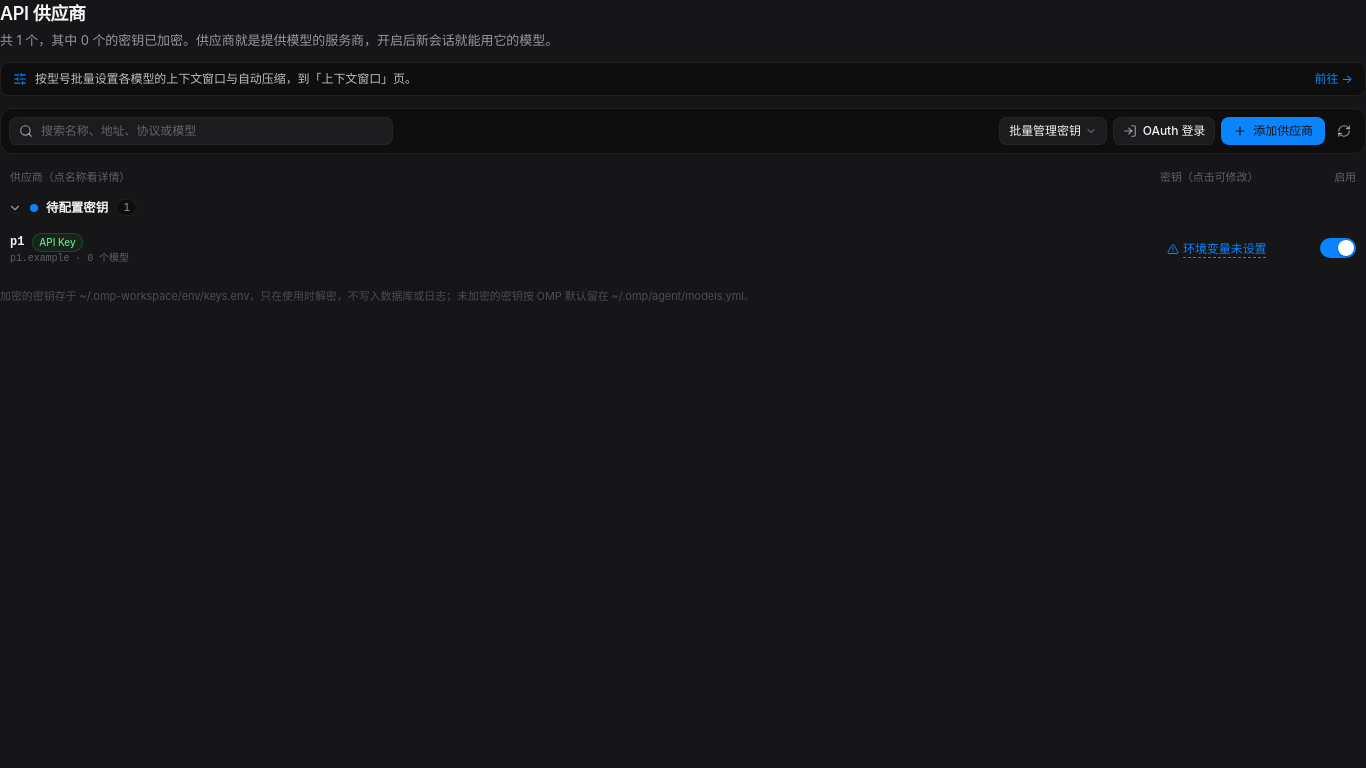
Test: key column › envVar opens the 设置密钥 dialog
Expected: the text "供应商（点名称看详情）" is shown, [10, 170, 130, 184]
Click the button "环境变量未设置".
click(1217, 249)  # box [1160, 238, 1274, 260]
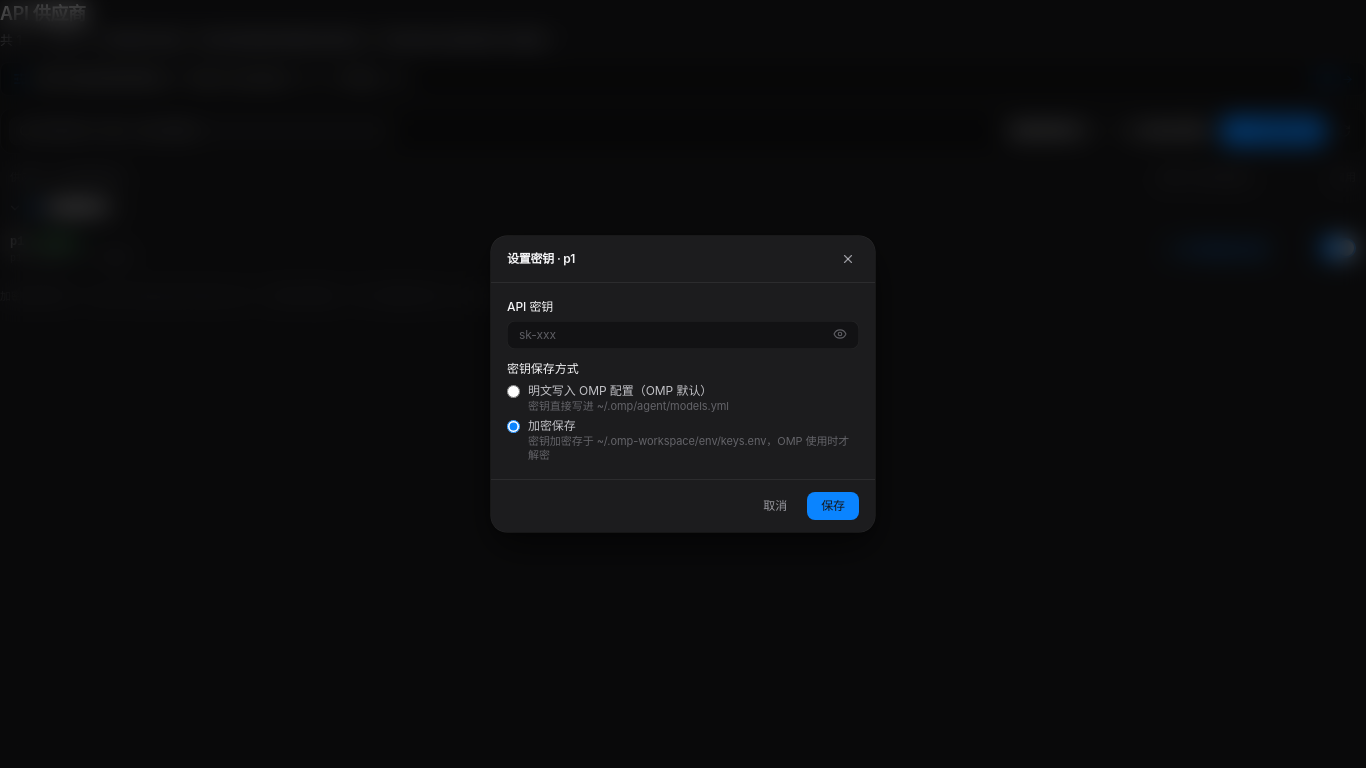
Now the dialog "设置密钥" is shown, box [491, 236, 875, 532]
